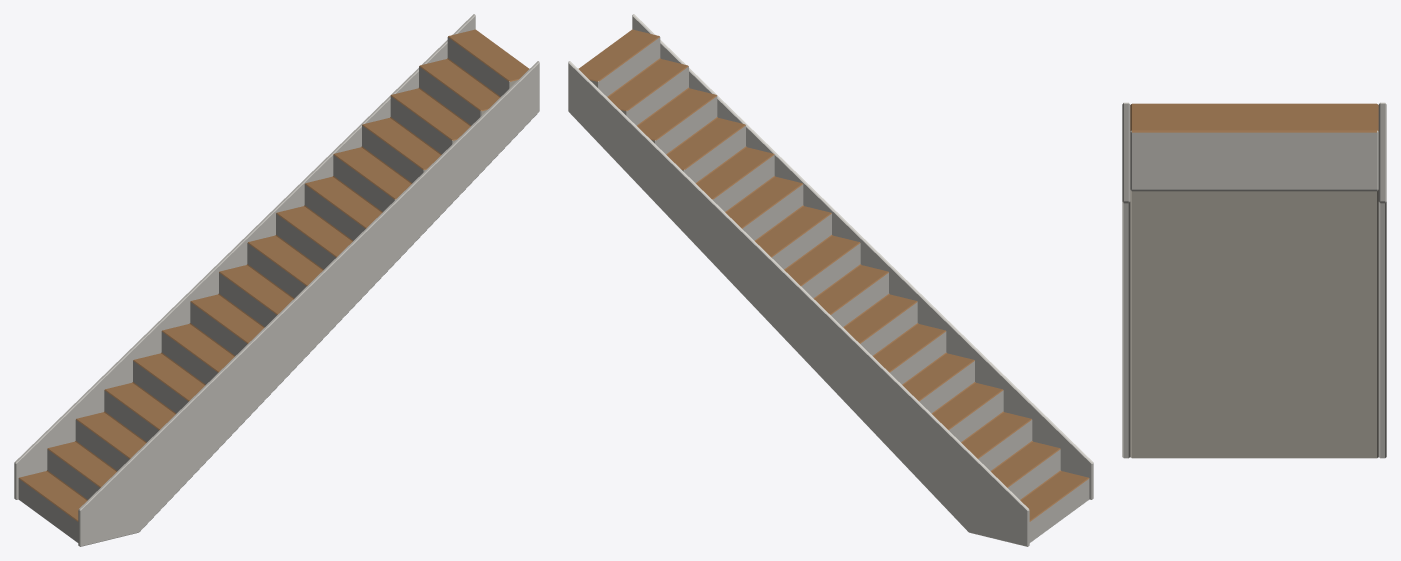
File: SM_Kit_Stair_Straight.glb
3 views of the same model, side by side, from view 1: azimuth 30°, elevation 25°; view 2: azimuth 150°, elevation 25°; view 3: azimuth 270°, elevation 25° (orthographic). The views are drawn at different scales.
Visible parts, largest first — view 1: SM_Kit_Stair_Straight; view 2: SM_Kit_Stair_Straight; view 3: SM_Kit_Stair_Straight.
Part boxes in pixels (x1,y1,x2,y2): SM_Kit_Stair_Straight: (14,14,539,546); SM_Kit_Stair_Straight: (568,14,1093,546); SM_Kit_Stair_Straight: (1122,102,1386,458).
Bounding box in the file's own units: 4.02 × 3.12 × 1.
